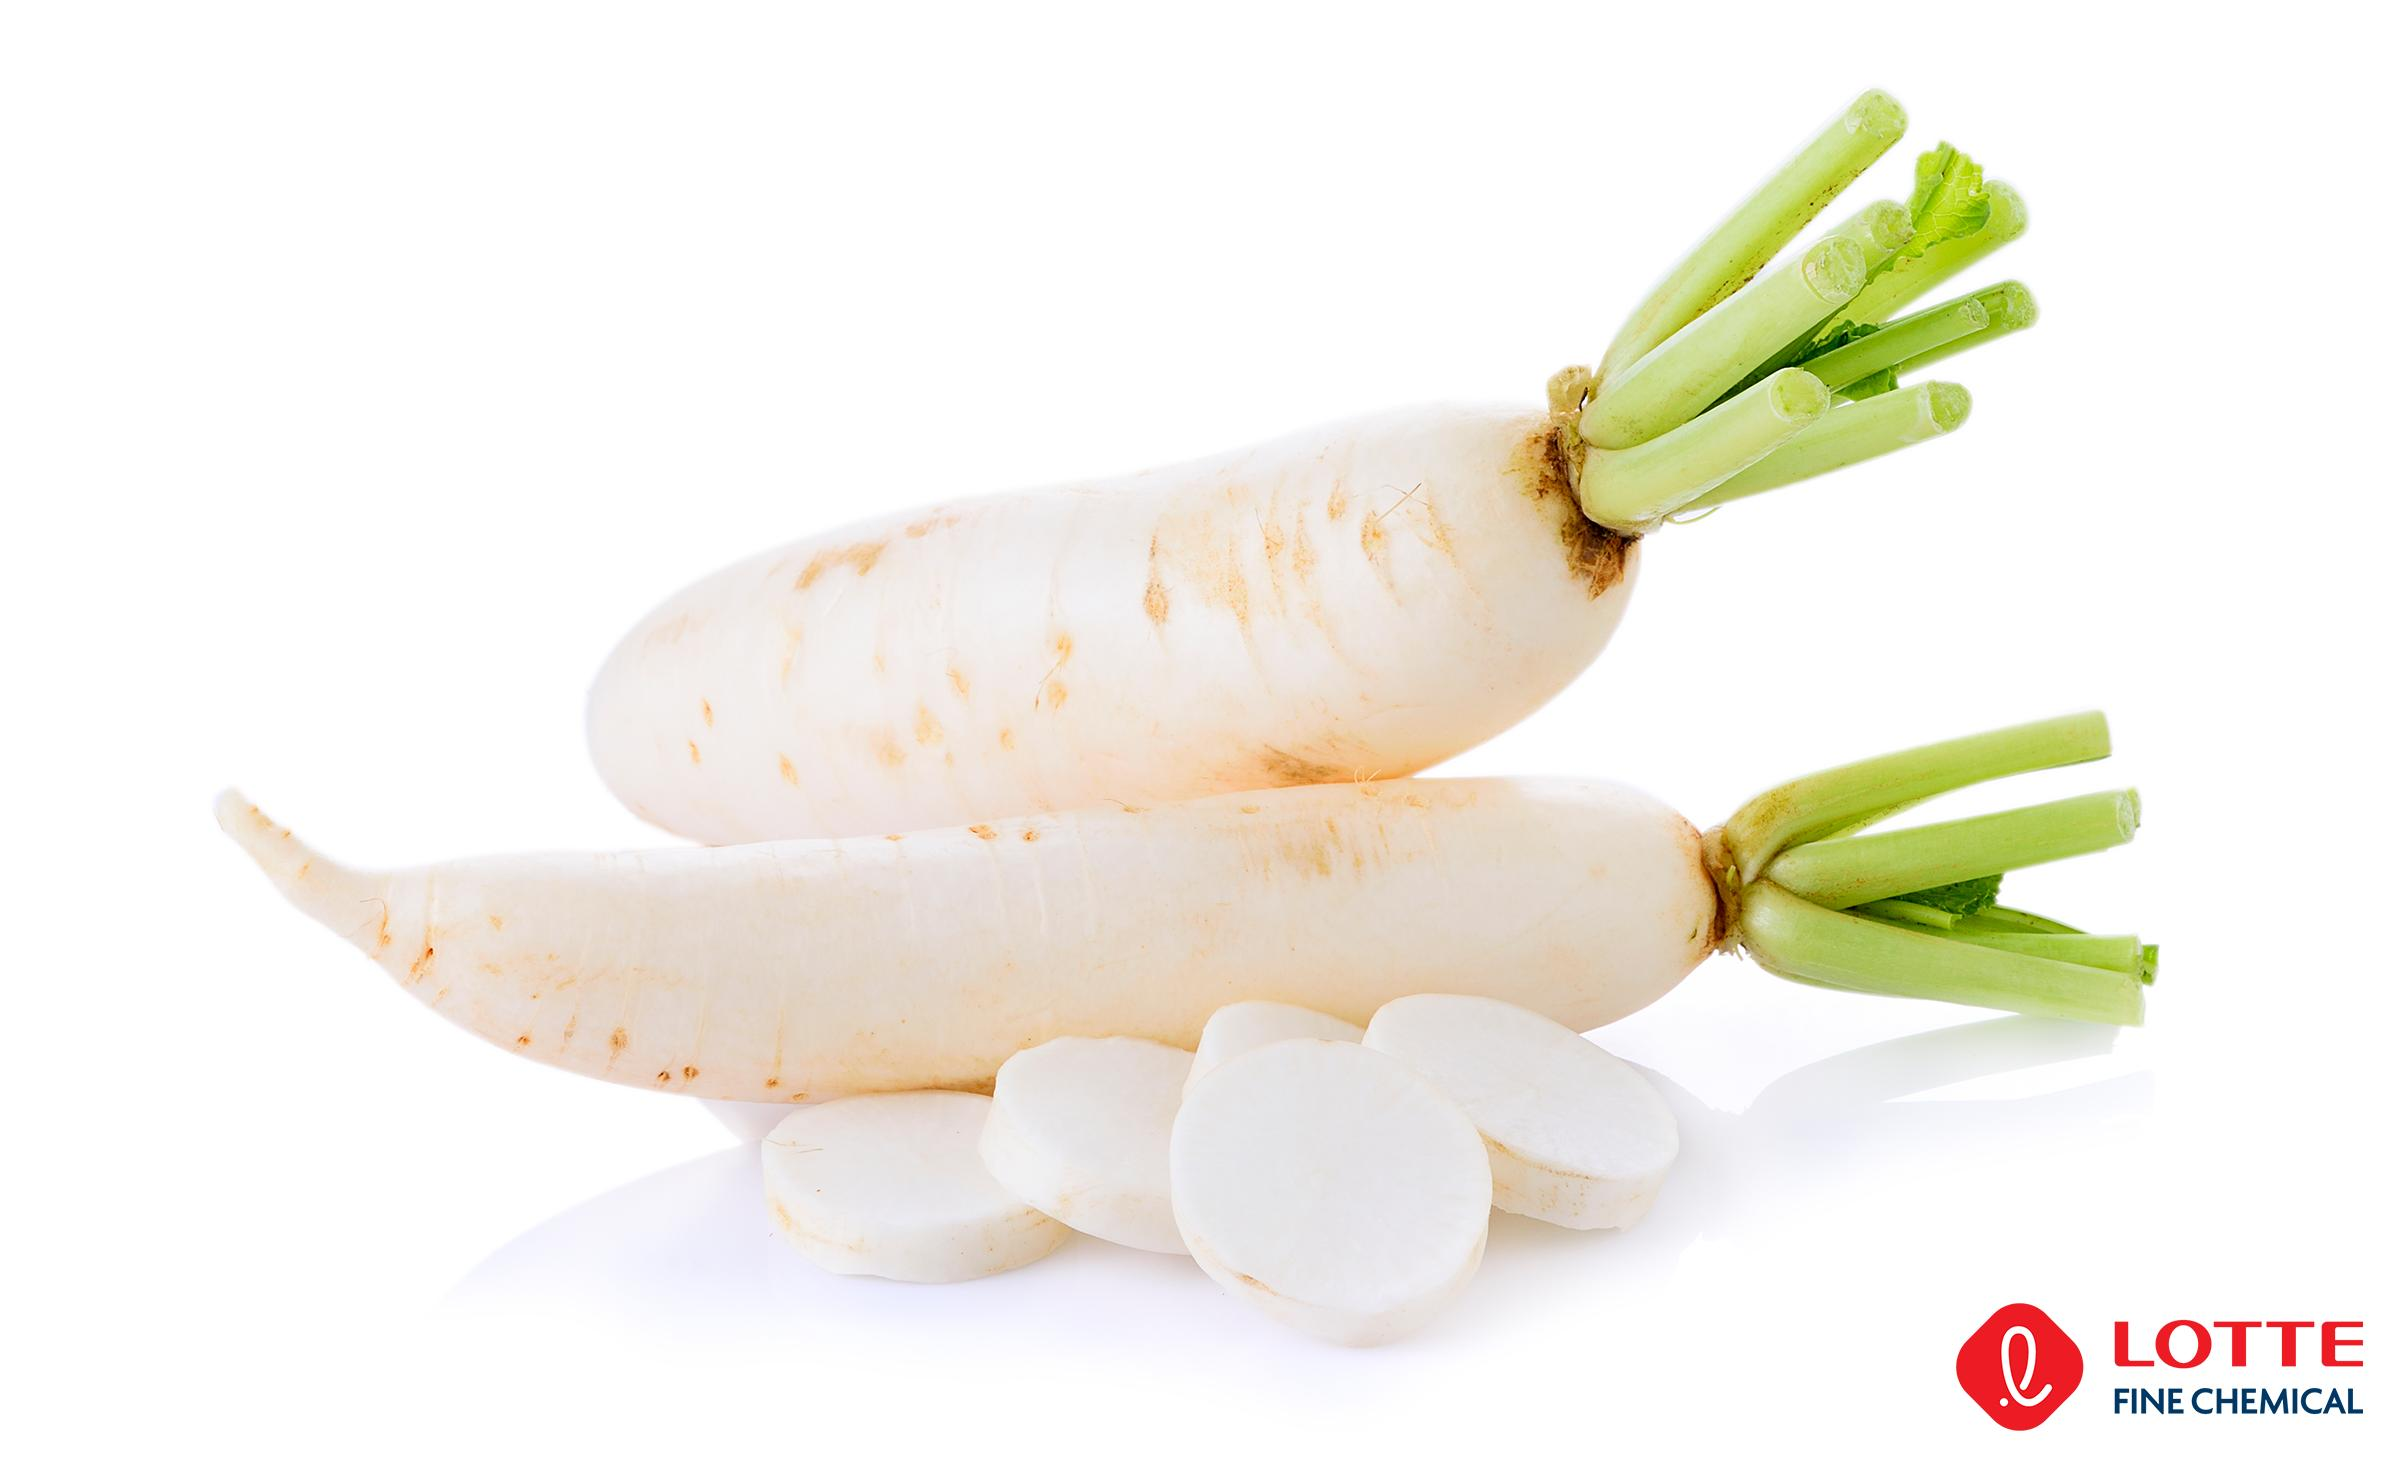radish: (1199, 790, 2398, 1465), (1199, 1025, 2398, 1465)
